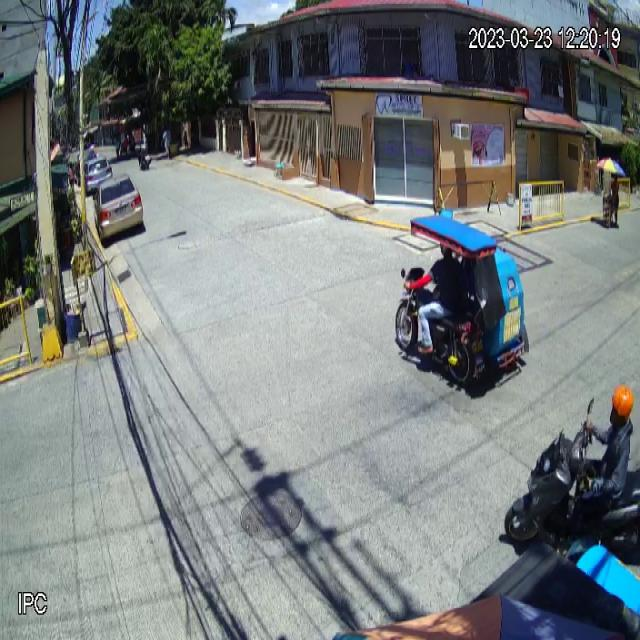Car: (93, 173, 143, 245)
Tricycle: (394, 214, 530, 389)
